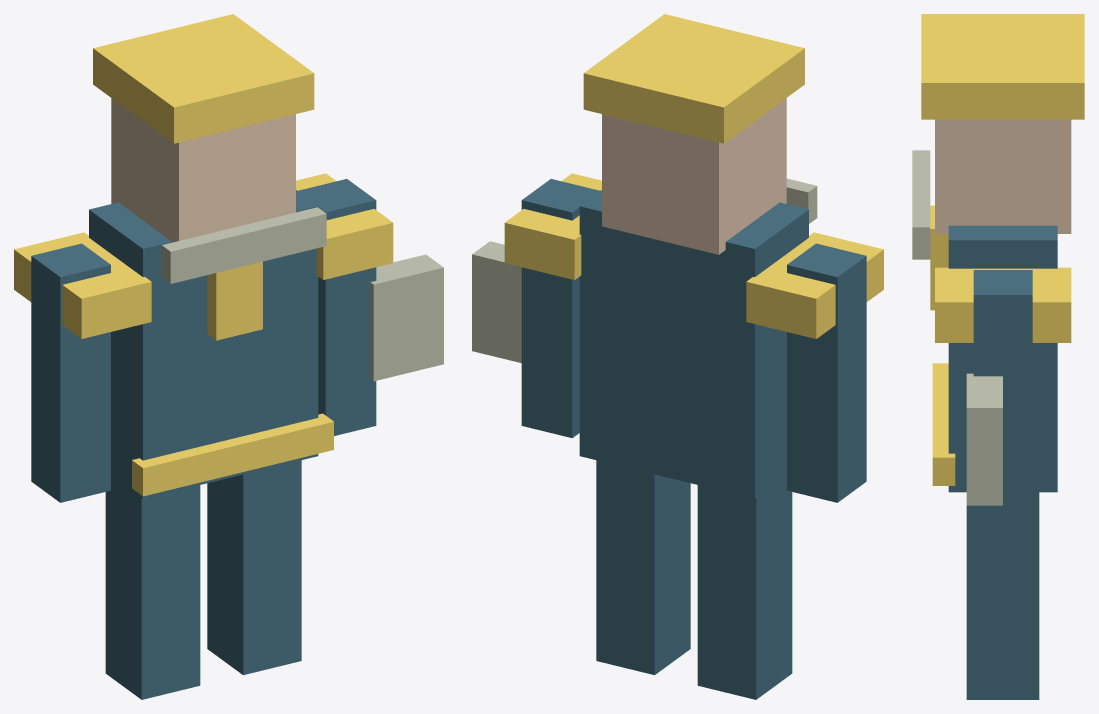
Rendered from 12_luma_voxmere_fixer_from_zephyr.glb.
3 renders of one model, left to right at view 1: azimuth 30°, elevation 25°; view 2: azimuth 150°, elevation 25°; view 3: azimuth 270°, elevation 25°, orthographic.
Parts seen in each view (by area): view 1: Luma Voxmere, Fixer from Zephyr; view 2: Luma Voxmere, Fixer from Zephyr; view 3: Luma Voxmere, Fixer from Zephyr.
Boxes of the visible parts, box(x1,y1,x2,y2) form: Luma Voxmere, Fixer from Zephyr: box(14, 14, 443, 699); Luma Voxmere, Fixer from Zephyr: box(472, 14, 883, 699); Luma Voxmere, Fixer from Zephyr: box(912, 14, 1084, 699).
Size of the model in its own units: 0.9274 by 1.41 by 0.3614.
